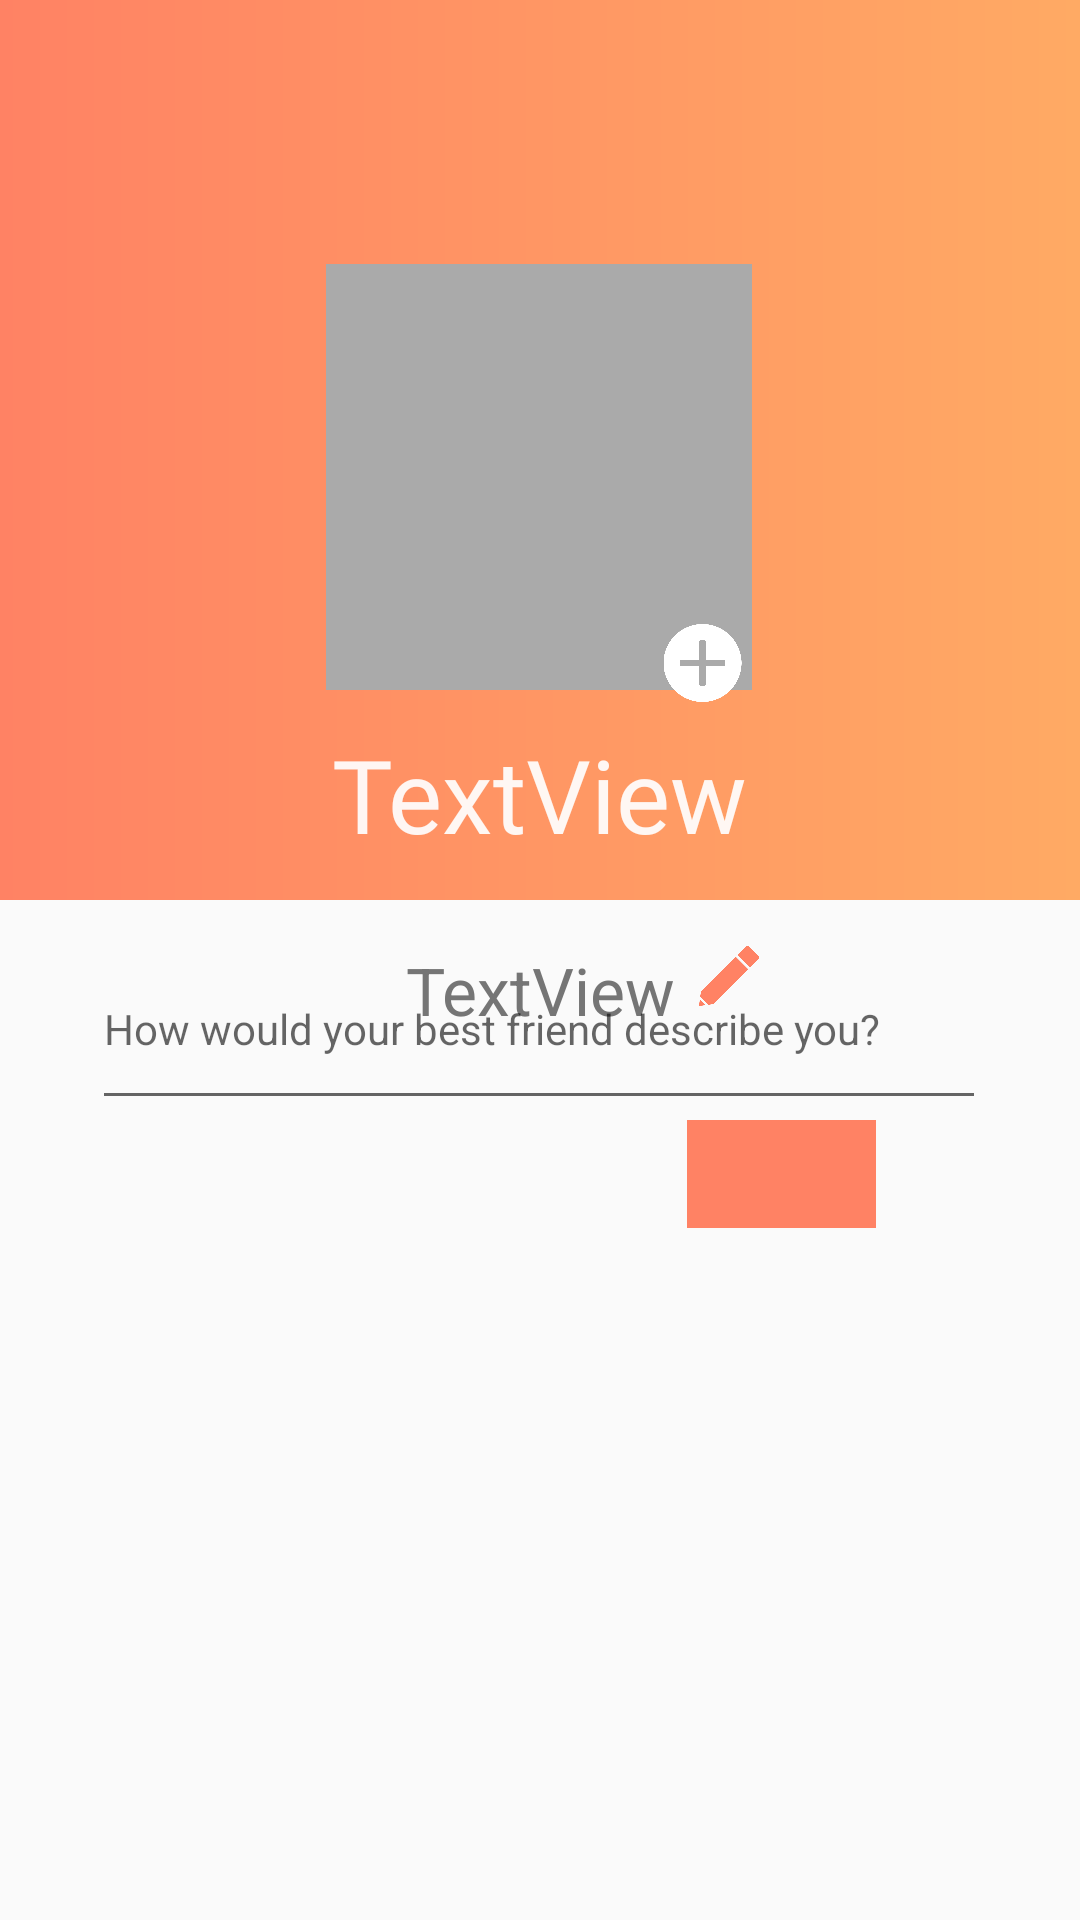

Point at icon controls on the screen. Image size 1080w x 1920h, points as (x=x, y=y).
add: (x=702, y=663)
pencil: (x=729, y=976)
